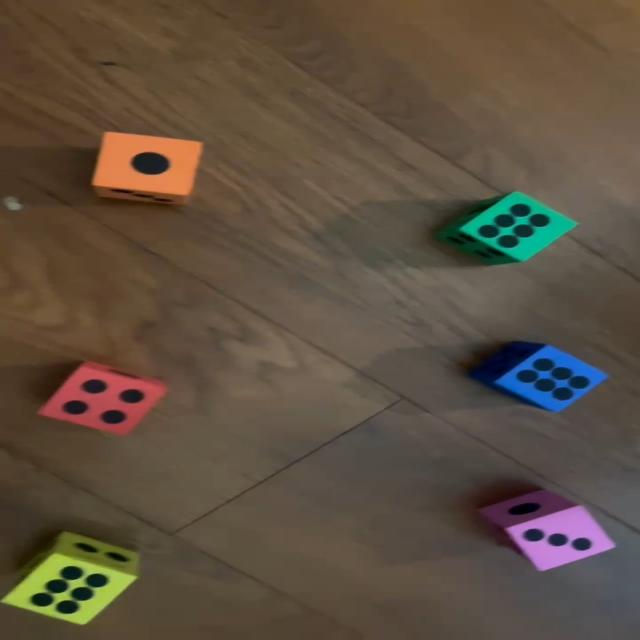blue_block: (468, 341, 611, 411)
red_block: (39, 360, 168, 436)
